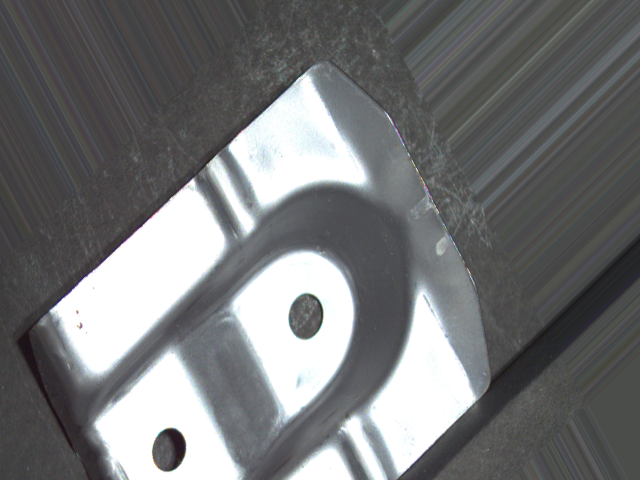defect: (280, 288, 329, 342)
